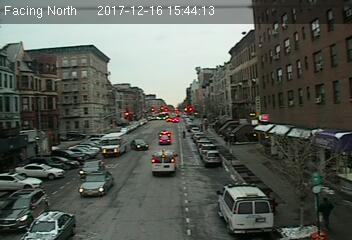car: (2, 188, 46, 228), (23, 211, 77, 240), (79, 173, 112, 197), (80, 158, 106, 175), (202, 151, 221, 165), (131, 139, 148, 149), (158, 135, 170, 144)
police: (213, 181, 276, 237)
truck: (152, 150, 176, 174)
